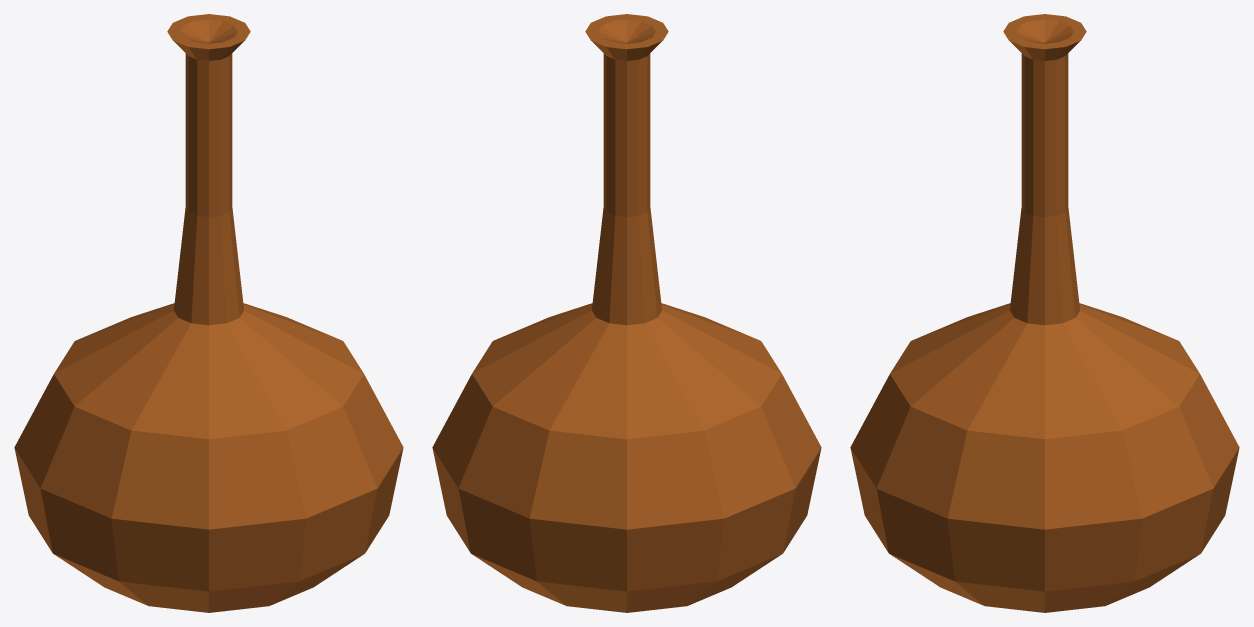
File: SM_pottery_007.FBX
The picture shows the model from 3 angles, left to right: view 1: azimuth 30°, elevation 25°; view 2: azimuth 150°, elevation 25°; view 3: azimuth 270°, elevation 25°; orthographic projection.
Parts seen in each view (by area): view 1: Object091; view 2: Object091; view 3: Object091.
Boxes of the visible parts, x1=… form: Object091: x1=14, y1=14, x2=403, y2=612; Object091: x1=432, y1=14, x2=821, y2=612; Object091: x1=850, y1=14, x2=1239, y2=612.
Size of the model in its own units: 57.1 by 85.84 by 57.1.
